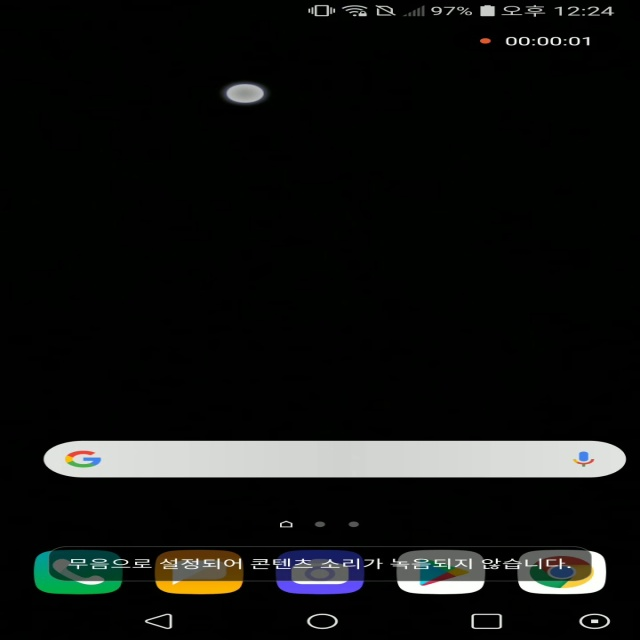Cursor: (224, 83, 268, 105)
